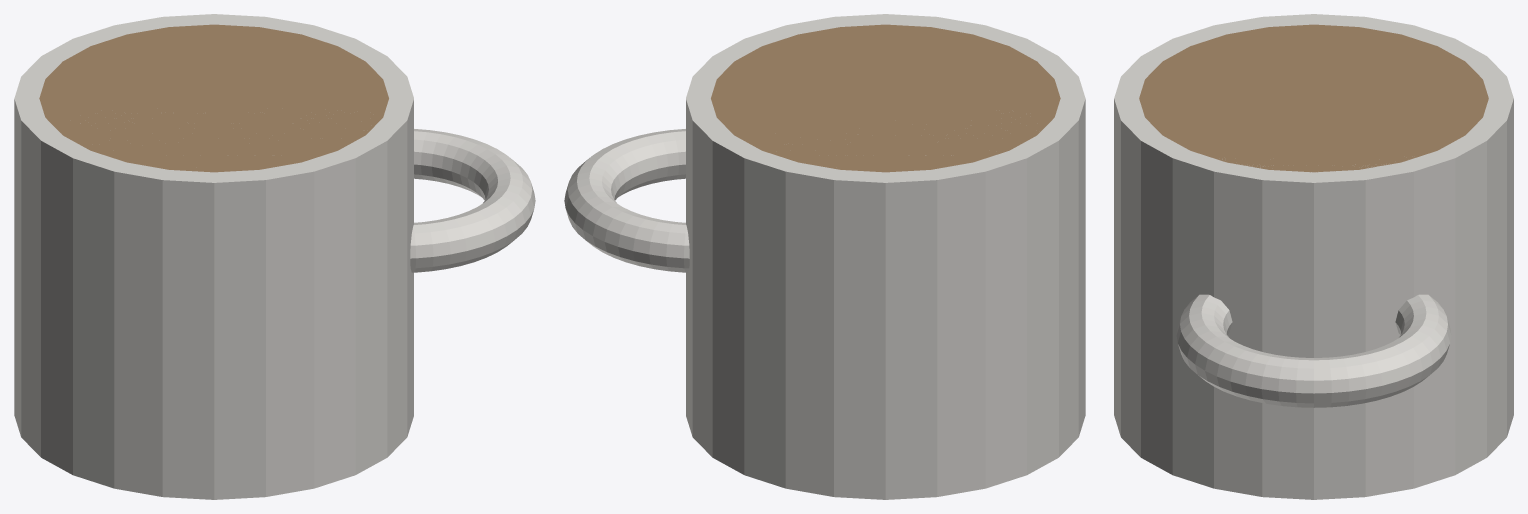
File: sibol-cup.glb
3 renders of one model, left to right at view 1: azimuth 30°, elevation 25°; view 2: azimuth 150°, elevation 25°; view 3: azimuth 270°, elevation 25°, orthographic.
Visible parts, largest first — view 1: SibolCup; view 2: SibolCup; view 3: SibolCup.
Part boxes in pixels (<box>): SibolCup: <box>14,14,535,499</box>; SibolCup: <box>564,14,1085,499</box>; SibolCup: <box>1114,14,1513,499</box>.
Bounding box in the file's own units: 0.44 × 0.28 × 0.32.
